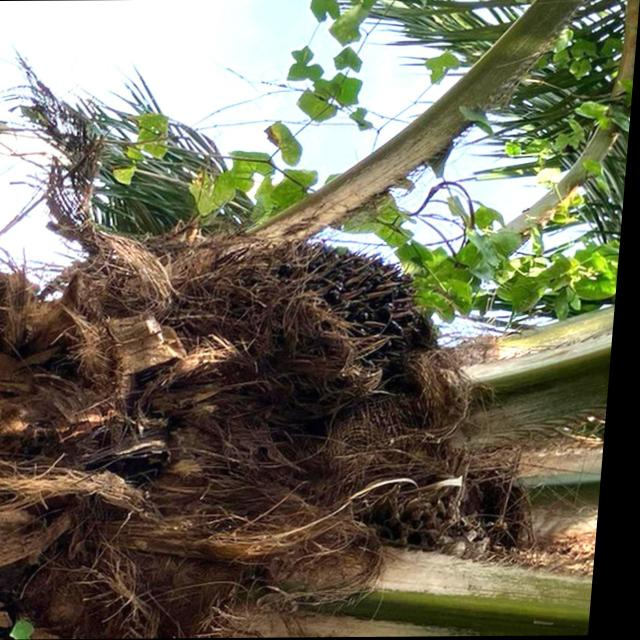unripe: (215, 226, 449, 408)
